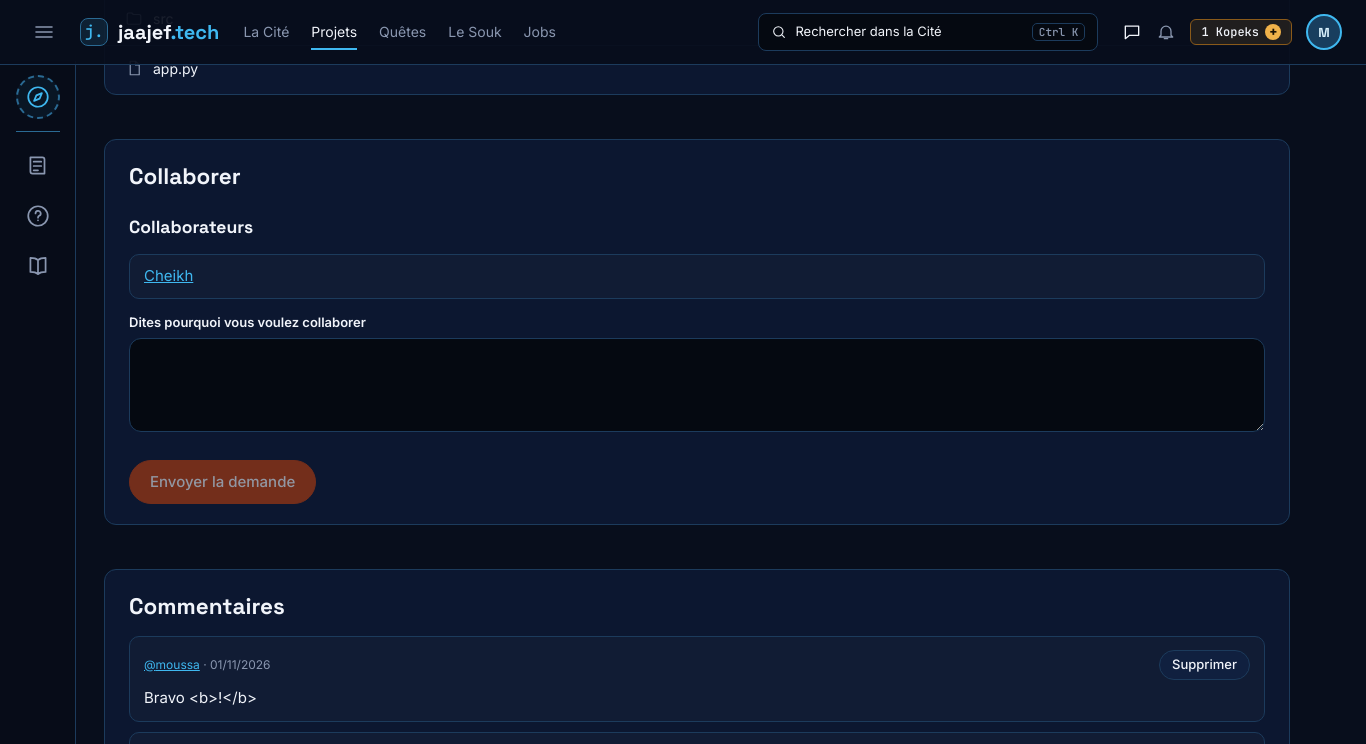
it: Project page › shows refusals in French
(page scrolled)
Type "Salut" into the text box labelled "Dites pourquoi vous voulez collaborer".
click(697, 385); type("Salut")  # box [129, 338, 1265, 432]
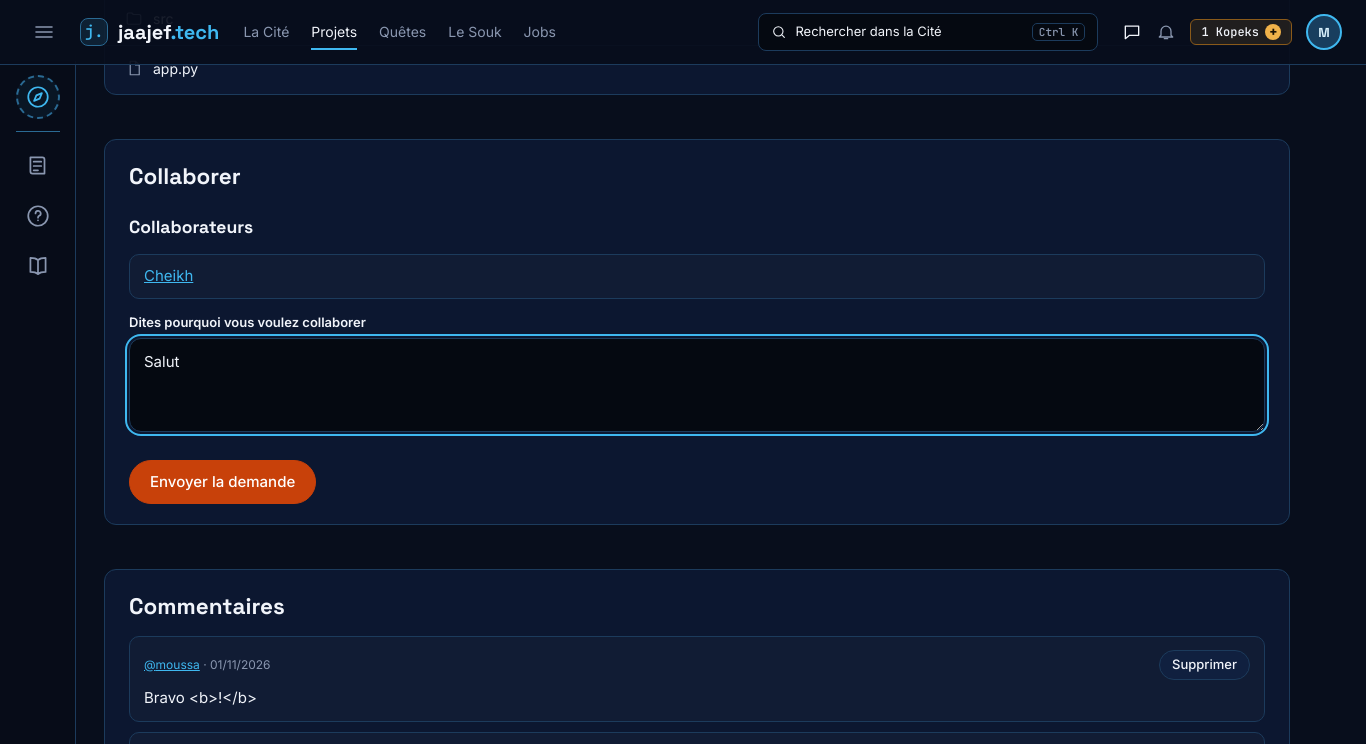
Click the button "Envoyer la demande".
click(223, 482)  # box [129, 460, 316, 504]
(page scrolled)
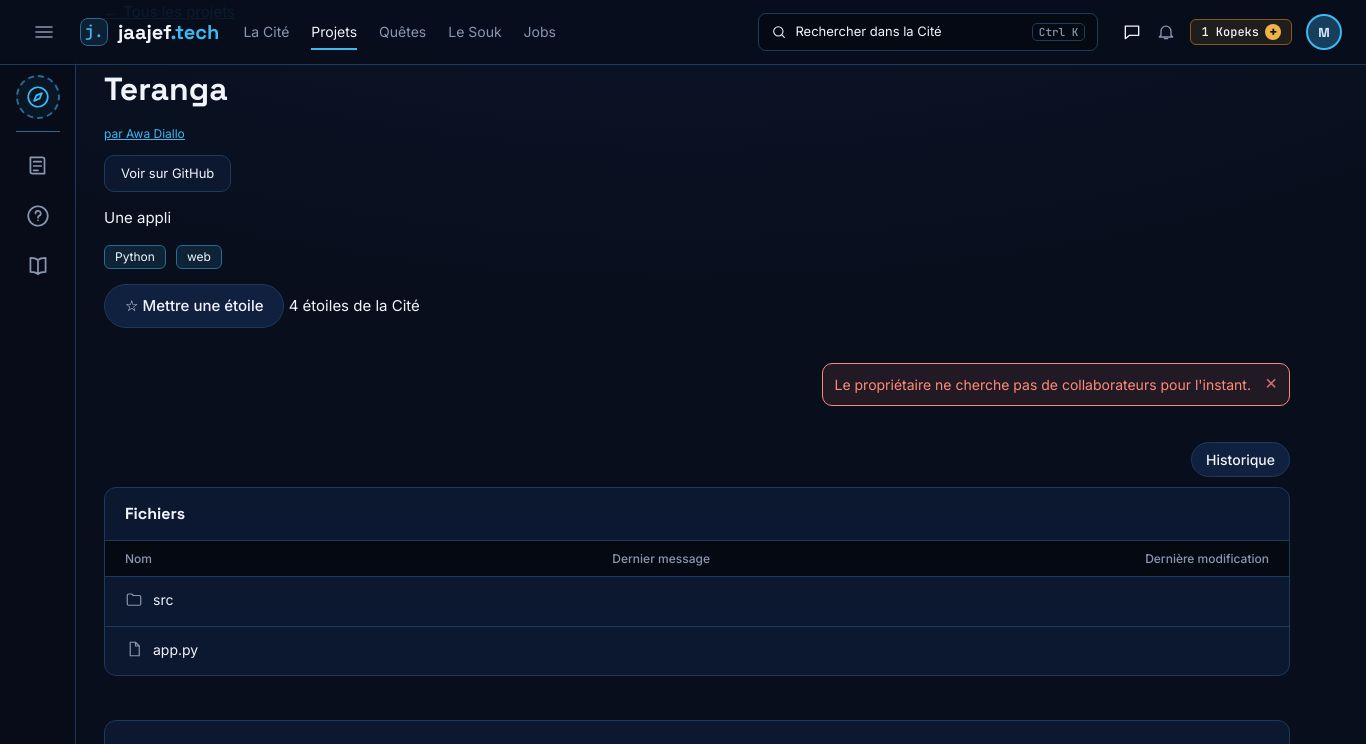
expect the message shows "ne cherche pas de collaborateurs": met, box [834, 376, 1251, 393]
